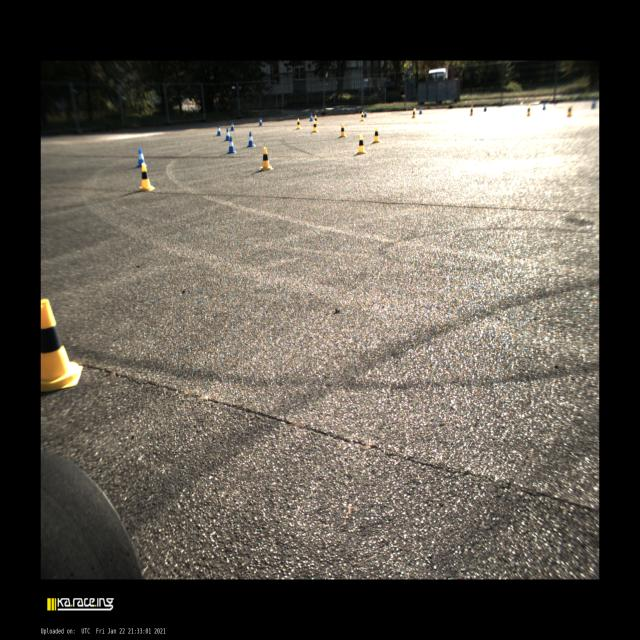blue_cone: (137, 148, 148, 168), (228, 137, 236, 153), (247, 132, 254, 146), (224, 128, 231, 140), (216, 124, 222, 136), (258, 117, 263, 126), (230, 121, 234, 131), (418, 107, 422, 114), (310, 113, 313, 121), (364, 110, 367, 117)
yellow_cone: (41, 299, 83, 393), (139, 163, 155, 191), (260, 147, 273, 170), (357, 134, 365, 154), (373, 128, 380, 143), (339, 124, 346, 137), (312, 120, 318, 132), (296, 118, 300, 130), (469, 106, 474, 115), (314, 115, 318, 124), (360, 112, 364, 121), (412, 109, 416, 118)
